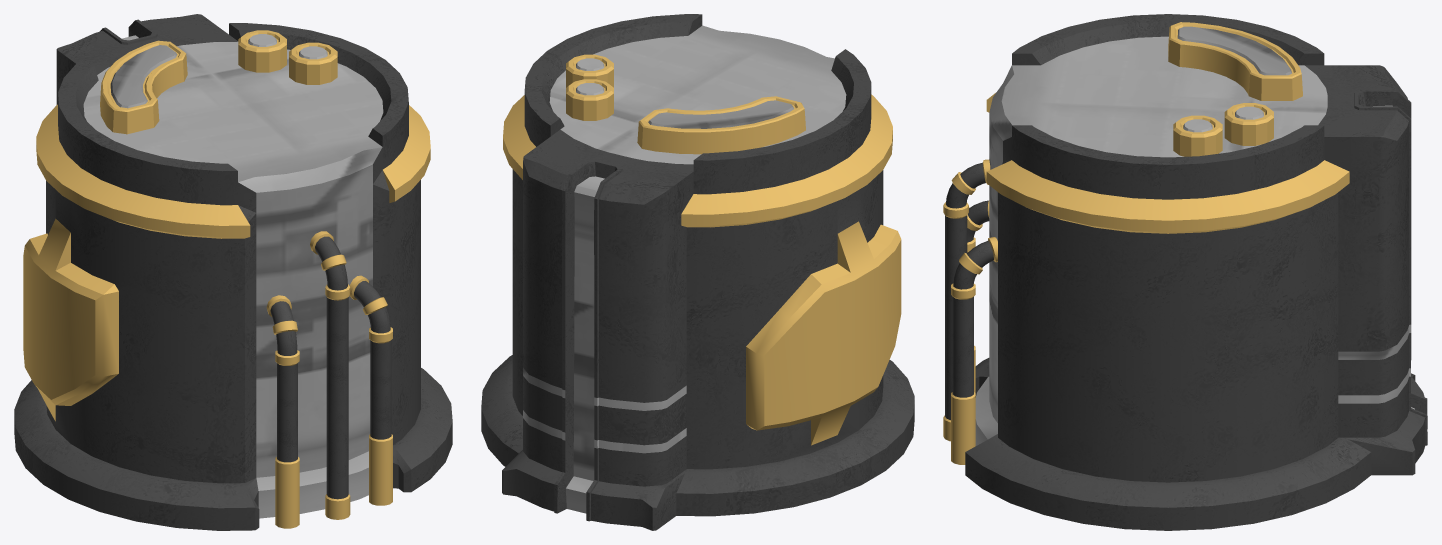
File: NB_silo_2.fbx
3 renders of one model, left to right at view 1: azimuth 30°, elevation 25°; view 2: azimuth 150°, elevation 25°; view 3: azimuth 270°, elevation 25°, orthographic. The views are drawn at different scales.
Parts seen in each view (by area): view 1: NB_silo_2; view 2: NB_silo_2; view 3: NB_silo_2.
Part boxes in pixels (left/top/right/bottom): NB_silo_2: left=14, top=14, right=452, bottom=530; NB_silo_2: left=481, top=14, right=914, bottom=530; NB_silo_2: left=943, top=14, right=1427, bottom=530.
Size of the model in its own units: 350 by 310 by 379.
